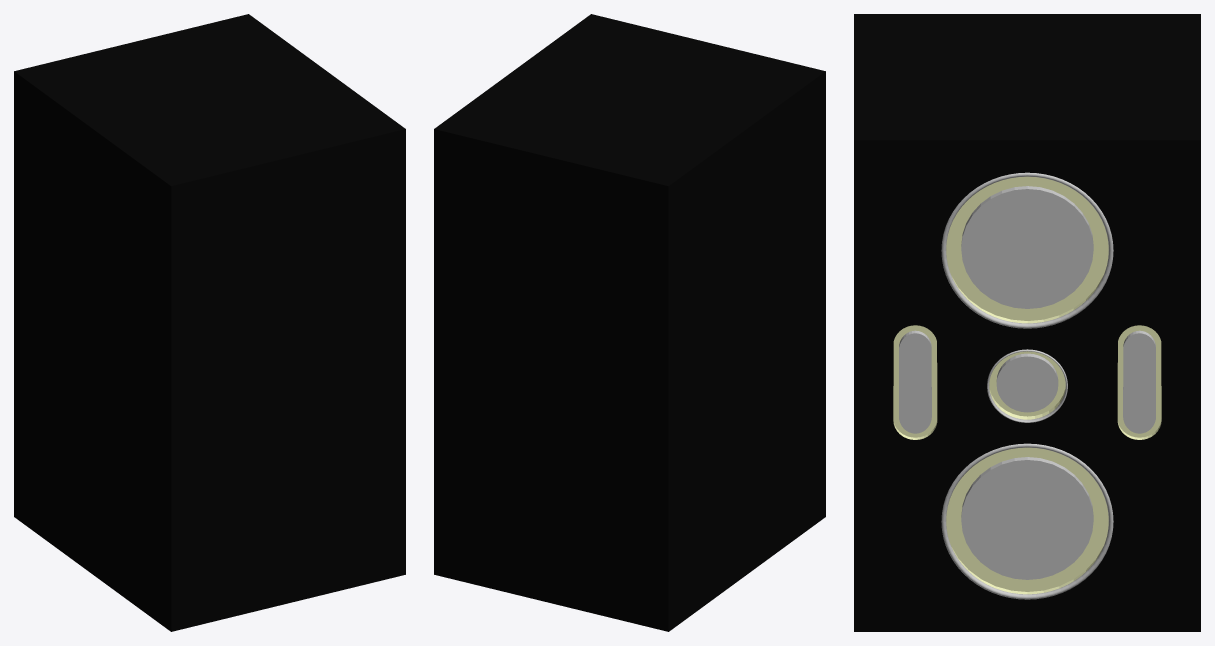
The model's file is Speaker.fbx.
3 views of the same model, side by side, from view 1: azimuth 30°, elevation 25°; view 2: azimuth 150°, elevation 25°; view 3: azimuth 270°, elevation 25° (orthographic). The views are drawn at different scales.
Parts seen in each view (by area): view 1: Base; view 2: Base; view 3: Base, Cylinder 3, Cylinder 1, Cylinder 5, Cylinder 4, Cylinder 2, Torus 3, Torus 1, Torus 2.
Part boxes in pixels (bbox=[...]): Base: bbox=[14, 14, 405, 631]; Base: bbox=[434, 14, 825, 631]; Base: bbox=[854, 14, 1200, 631]; Cylinder 3: bbox=[961, 457, 1093, 579]; Cylinder 1: bbox=[961, 186, 1093, 308]; Cylinder 5: bbox=[1123, 330, 1155, 433]; Cylinder 4: bbox=[899, 330, 931, 433]; Cylinder 2: bbox=[996, 353, 1058, 412]; Torus 3: bbox=[941, 443, 1113, 599]; Torus 1: bbox=[941, 172, 1113, 328]; Torus 2: bbox=[987, 349, 1067, 422].
Bounding box in the file's own units: 201 × 363 × 232.
